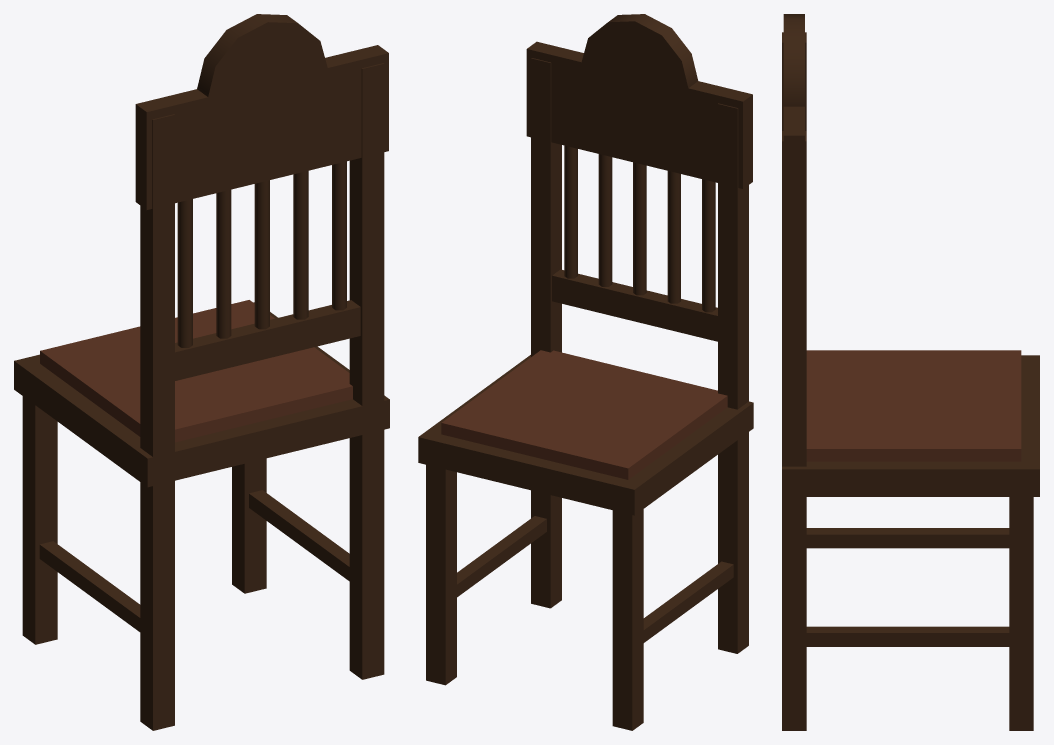
The model's file is chair-carved.glb.
3 renders of one model, left to right at view 1: azimuth 30°, elevation 25°; view 2: azimuth 150°, elevation 25°; view 3: azimuth 270°, elevation 25°, orthographic. The views are drawn at different scales.
Visible parts, largest first — view 1: chair-carved; view 2: chair-carved; view 3: chair-carved.
Boxes of the visible parts, <box> form: chair-carved: <box>14,14,389,730</box>; chair-carved: <box>418,14,753,730</box>; chair-carved: <box>782,14,1039,730</box>.
Size of the model in its own units: 0.44 by 1.18 by 0.42.
